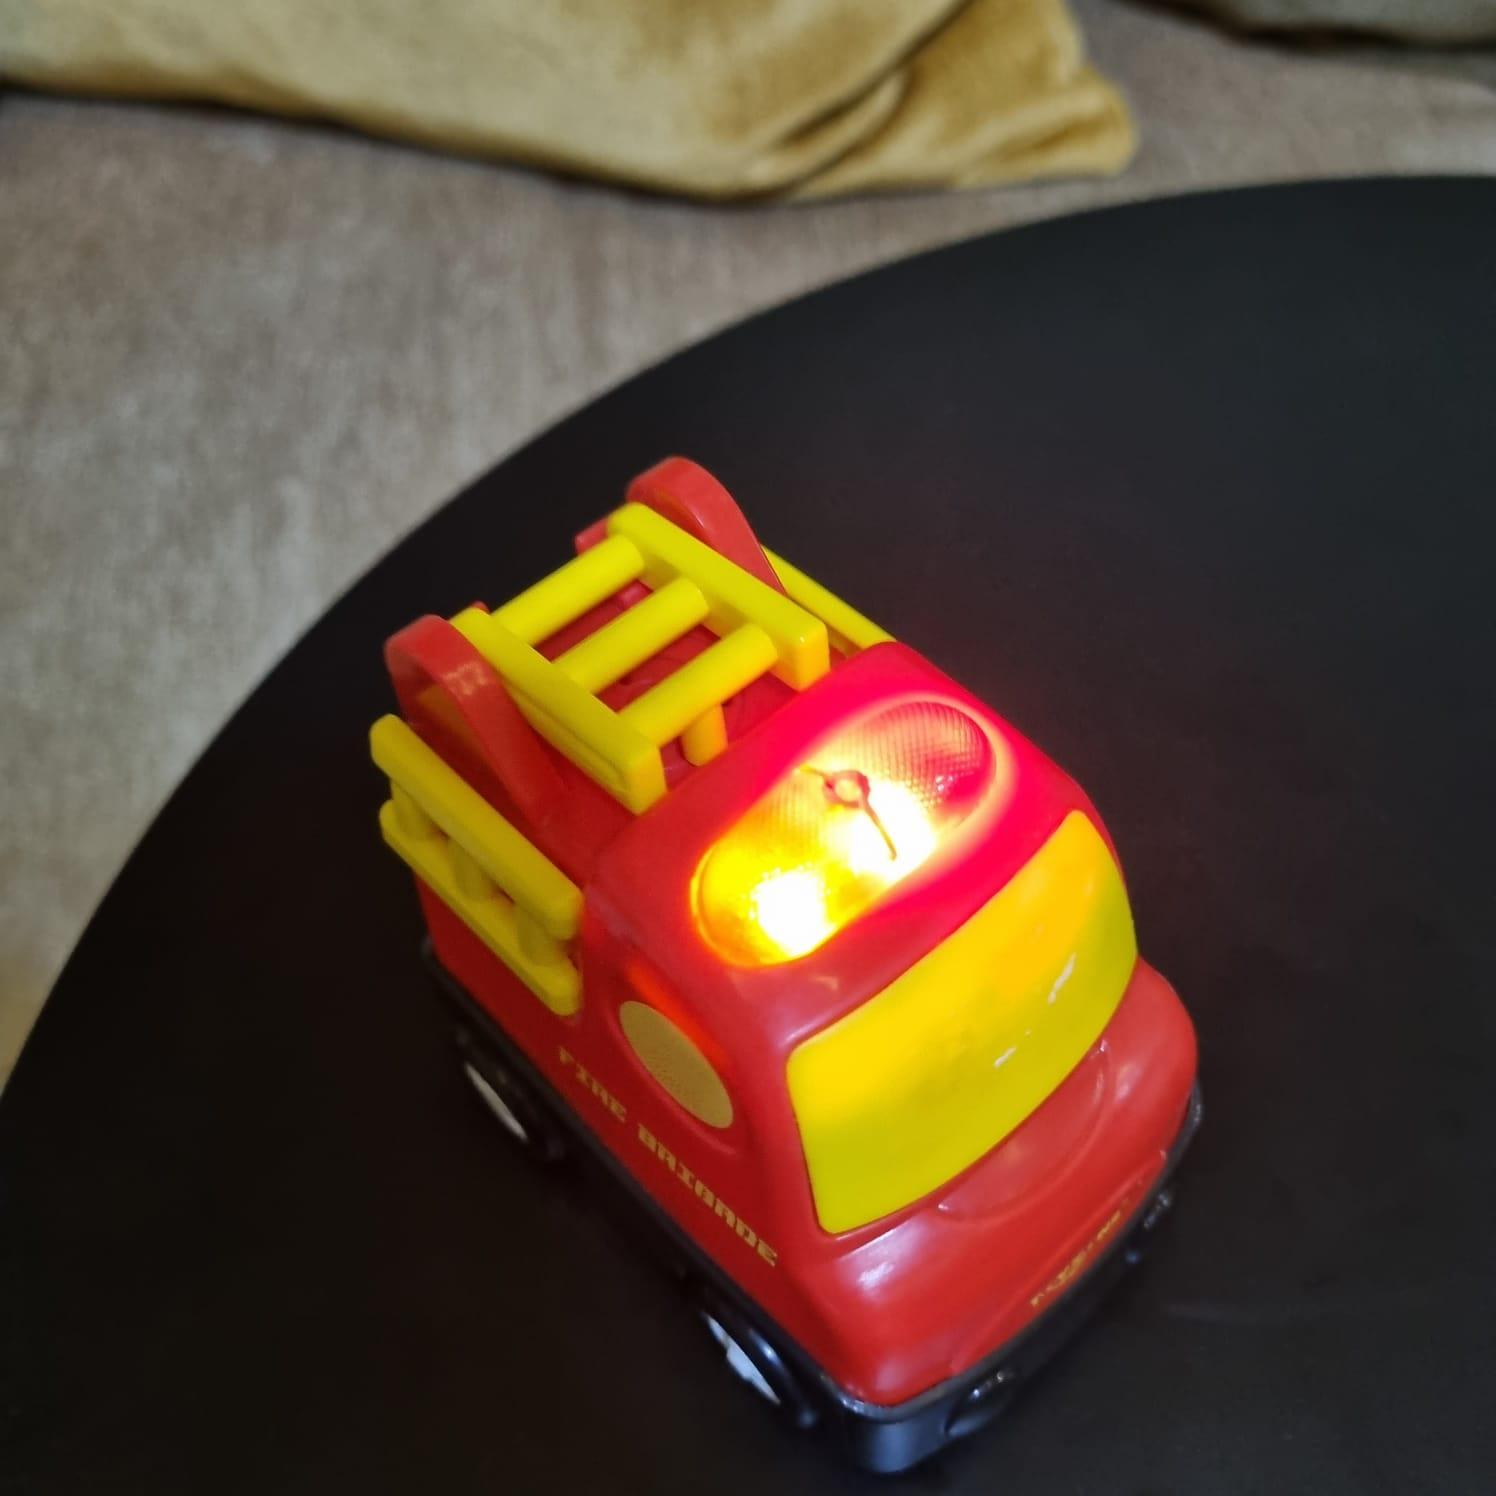firetruck_on: (374, 460, 1206, 1470)
